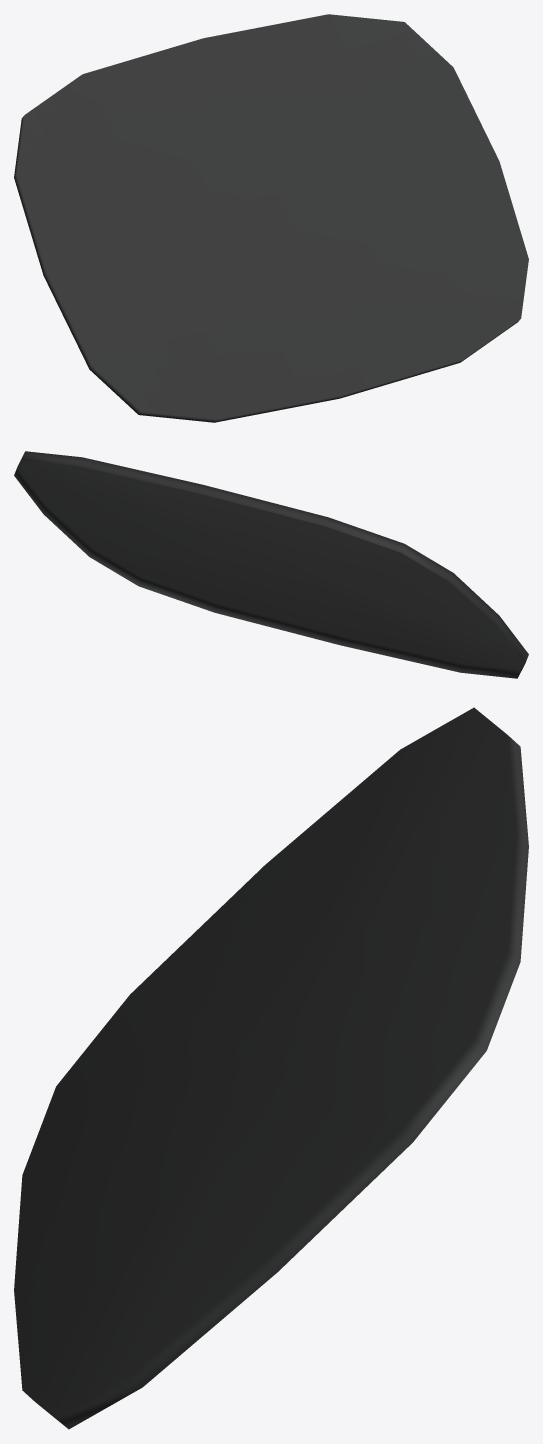
File: a_w23_i14_machine01_monitor_off.gltf
The picture shows the model from 3 angles, top to bottom: view 1: azimuth 30°, elevation 25°; view 2: azimuth 150°, elevation 25°; view 3: azimuth 270°, elevation 25°; orthographic projection. The views are drawn at different scales.
Parts seen in each view (by area): view 1: nomerge_machine01_monitor_off_mesh_shape:a_w23_i14_machine01; view 2: nomerge_machine01_monitor_off_mesh_shape:a_w23_i14_machine01; view 3: nomerge_machine01_monitor_off_mesh_shape:a_w23_i14_machine01.
Part boxes in pixels (bbox=[...]): nomerge_machine01_monitor_off_mesh_shape:a_w23_i14_machine01: bbox=[14, 14, 528, 422]; nomerge_machine01_monitor_off_mesh_shape:a_w23_i14_machine01: bbox=[14, 451, 528, 678]; nomerge_machine01_monitor_off_mesh_shape:a_w23_i14_machine01: bbox=[14, 707, 528, 1429].
Size of the model in its own units: 0.6655 by 0.366 by 0.366.
Materials: 1 (1 with a texture image).
